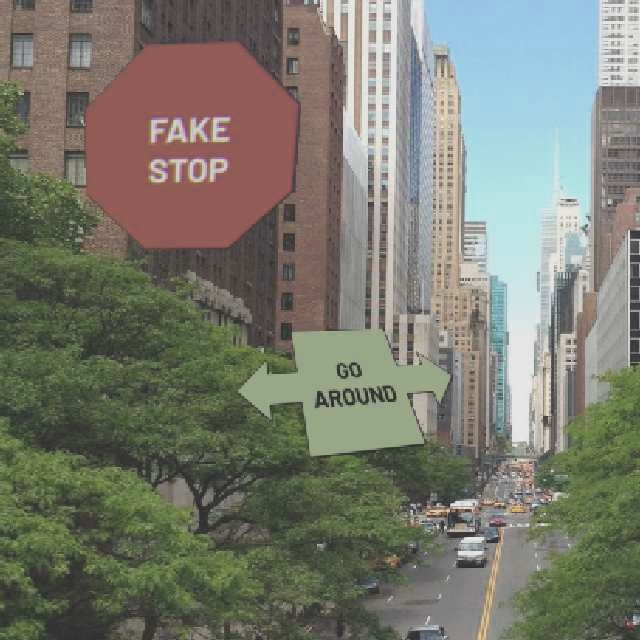FAKE_STOP: (82, 38, 300, 249)
GO_AROUND: (234, 326, 452, 458)
